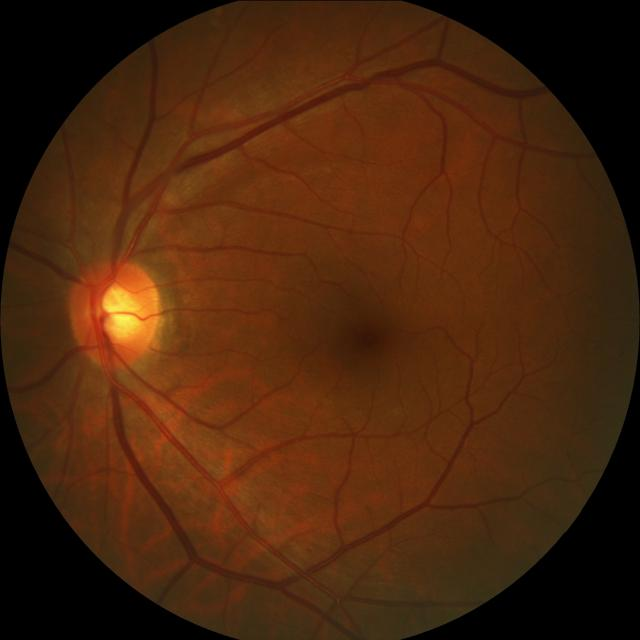OC: (94, 281, 142, 343)
OD: (67, 256, 159, 367)
